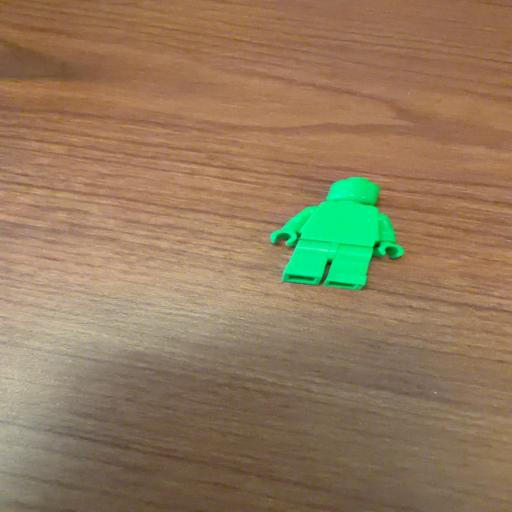UnoQ-minifig-detector: (271, 177, 404, 289)
